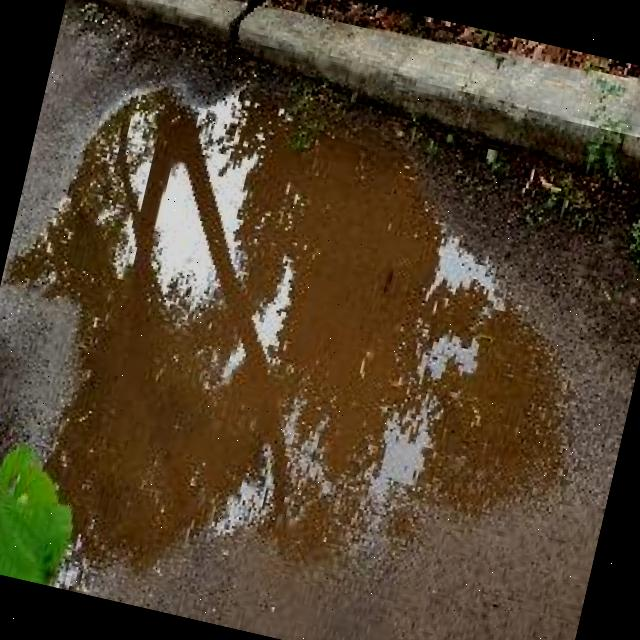stagnation: (9, 42, 587, 607)
